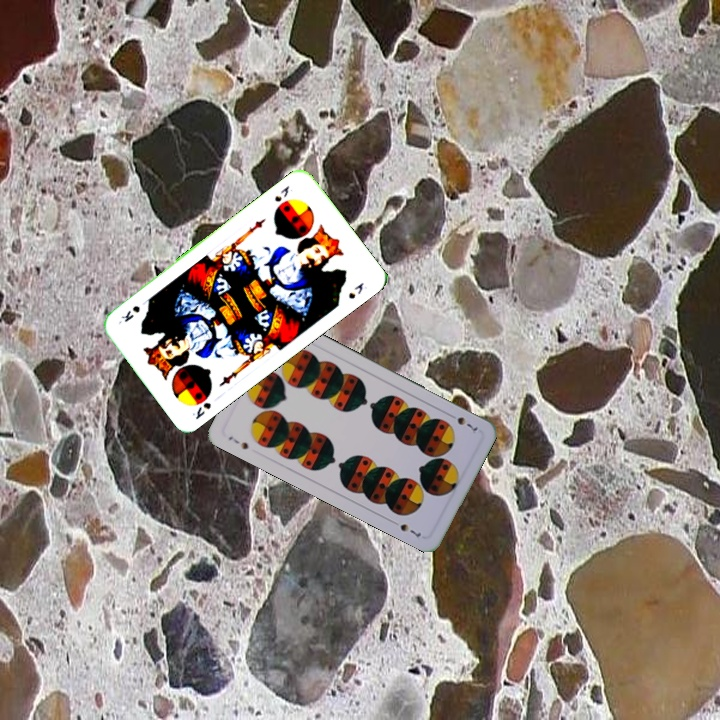S7: (444, 409, 480, 434), (224, 432, 251, 452)
SK: (188, 398, 214, 422), (270, 182, 292, 204)
